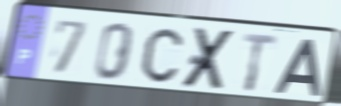0: (93, 21, 136, 83)
7: (52, 17, 90, 76)
A: (271, 37, 323, 98)
C: (140, 26, 185, 85)
T: (240, 31, 280, 94)
X: (179, 26, 238, 91)
